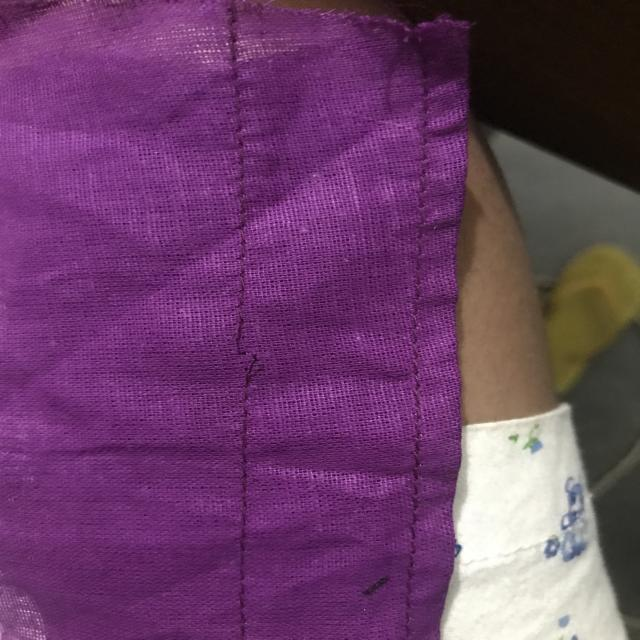broken: (217, 304, 279, 394)
good: (222, 416, 268, 526)
